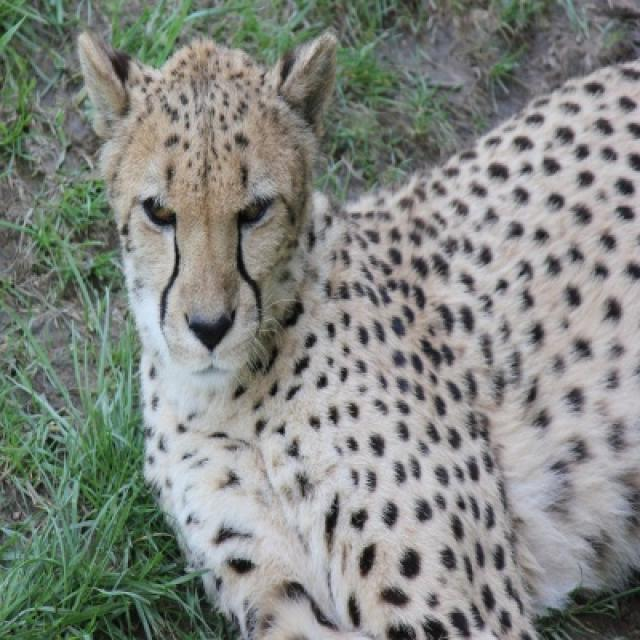Cheetah: (85, 24, 638, 638)
